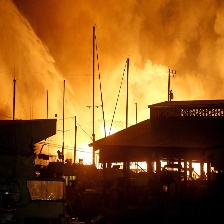fire: (73, 123, 213, 177)
smoke: (78, 1, 224, 104)
